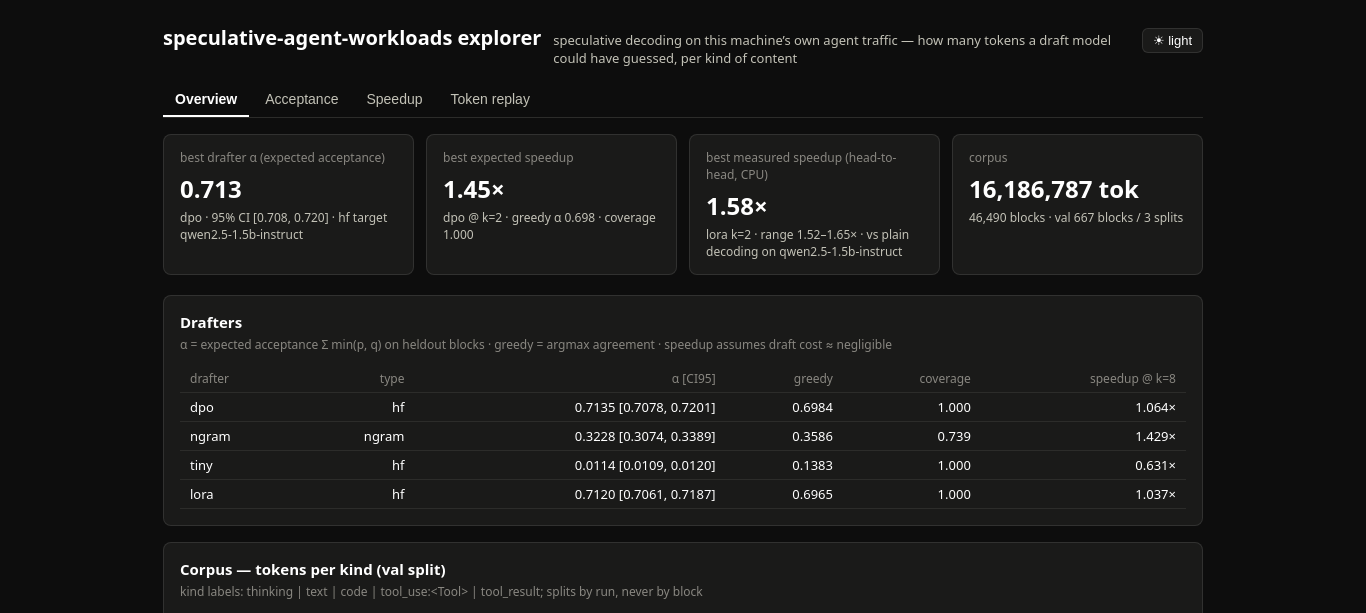
App (real data via fetch) › tab switch reaches the replay page
Check: the element with test id "tile-best-alpha" is shown, box [163,134,414,275]
Click the tab "Token replay".
click(490, 100)  # box [438,83,542,117]
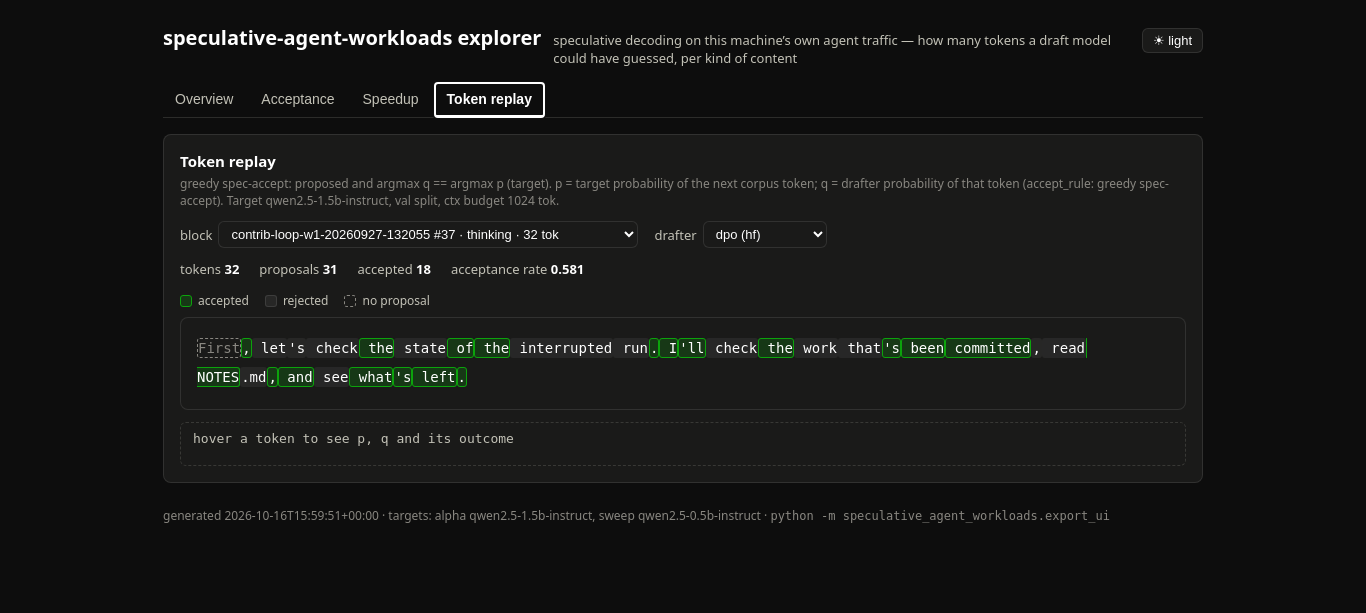
Check: the element with test id "replay-block" is shown, box [180,317,1186,410]
